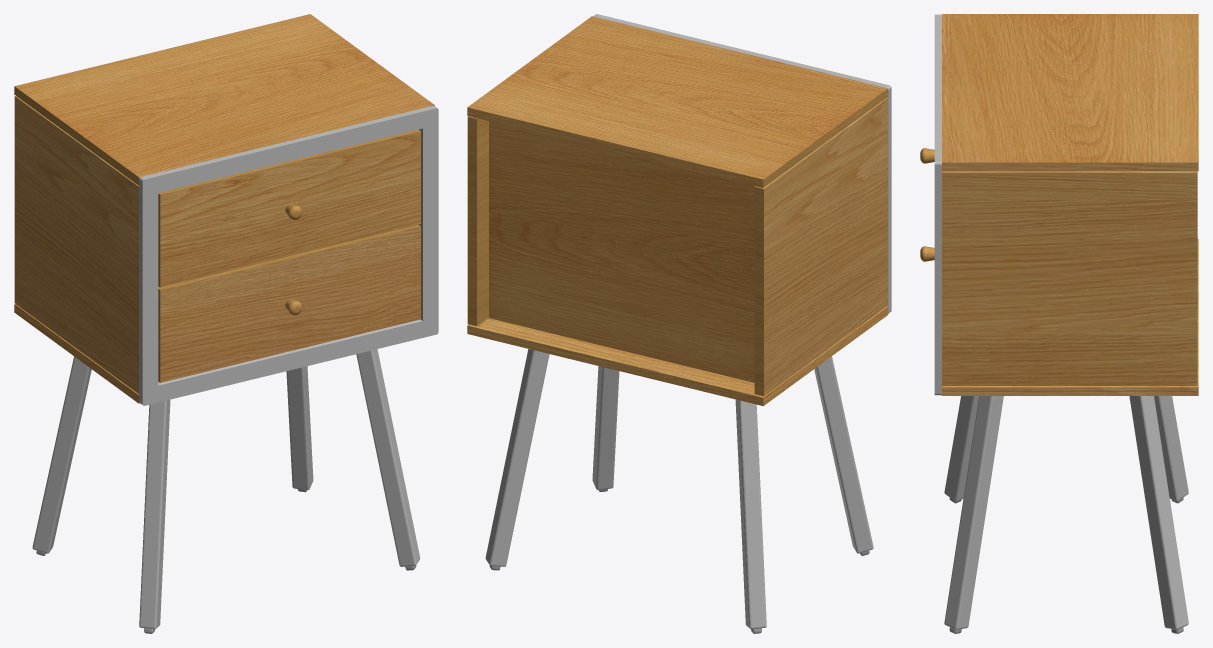
Rendered from B07HSM6C1J.glb.
3 renders of one model, left to right at view 1: azimuth 30°, elevation 25°; view 2: azimuth 150°, elevation 25°; view 3: azimuth 270°, elevation 25°, orthographic. The views are drawn at different scales.
Parts seen in each view (by area): view 1: RootNode; view 2: RootNode; view 3: RootNode.
Boxes of the visible parts, x1,y1,x2,y2 form: RootNode: (14,14,438,633); RootNode: (467,14,891,633); RootNode: (920,14,1198,633).
Size of the model in its own units: 0.4 by 0.6005 by 0.3161.
1 material, 1 textured.
